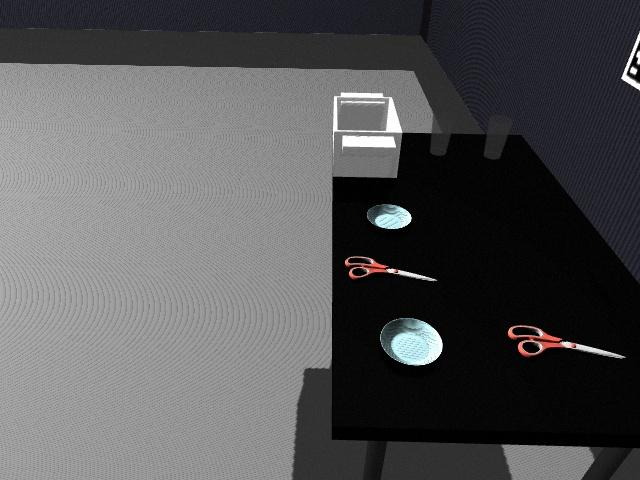cup: (483, 115, 513, 161), (429, 121, 452, 157)
plate: (377, 316, 446, 369), (365, 203, 413, 230), (385, 318, 430, 338)
scissors: (507, 324, 627, 361), (345, 254, 437, 282)
